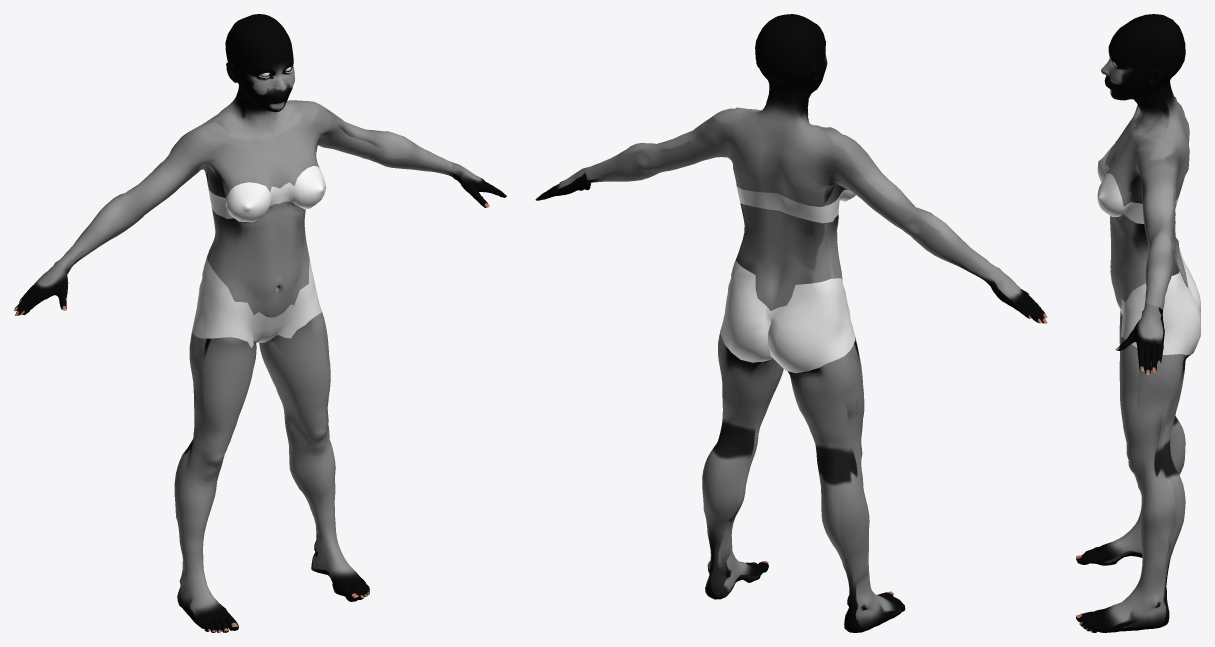
File: sophia.glb
3 renders of one model, left to right at view 1: azimuth 30°, elevation 25°; view 2: azimuth 150°, elevation 25°; view 3: azimuth 270°, elevation 25°, orthographic. The views are drawn at different scales.
Visible parts, largest first — view 1: mb_female; view 2: mb_female; view 3: mb_female.
Part boxes in pixels (box(x1,y1,x2,y2)): mb_female: box(14, 14, 506, 632); mb_female: box(535, 14, 1047, 632); mb_female: box(1076, 14, 1200, 632).
Bounding box in the file's own units: 1.44 × 1.6 × 0.3145.
10 materials, 7 textured.
